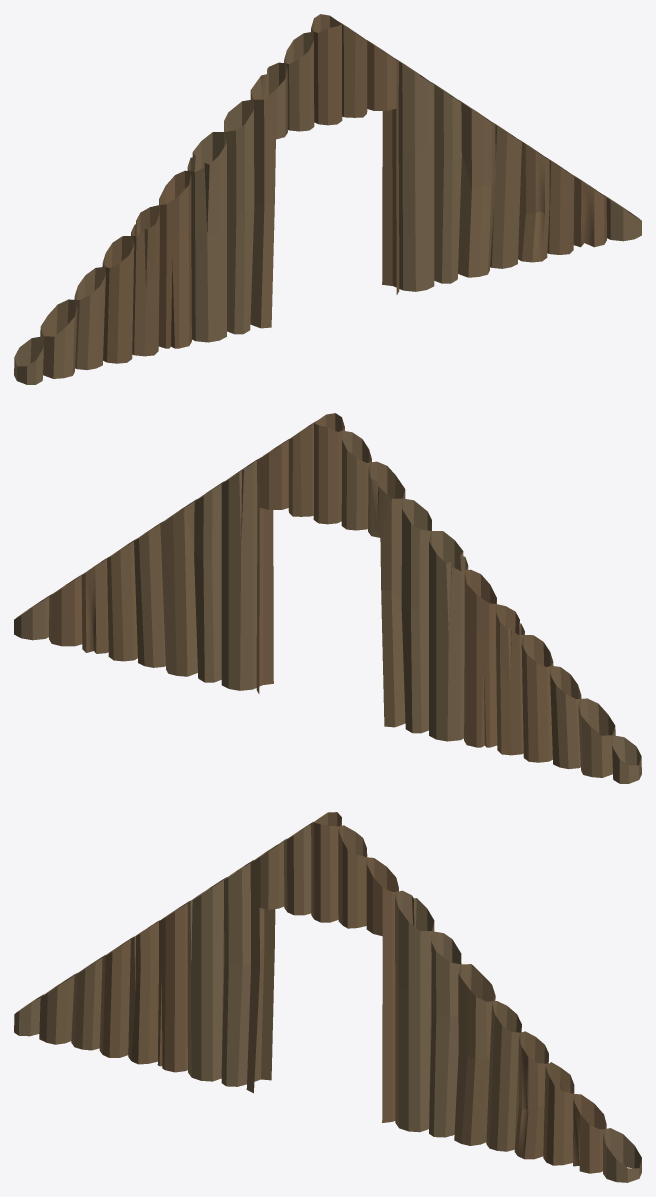
The model's file is rpgpp_ag_roof_end_01_9x4_wall_door_02a.fbx.
3 views of the same model, one above another, from view 1: azimuth 30°, elevation 25°; view 2: azimuth 150°, elevation 25°; view 3: azimuth 330°, elevation 25° (orthographic).
Parts seen in each view (by area): view 1: rpgpp_ag_roof_end_01_9x4_wall_door_02a; view 2: rpgpp_ag_roof_end_01_9x4_wall_door_02a; view 3: rpgpp_ag_roof_end_01_9x4_wall_door_02a.
Part boxes in pixels (box(x1,y1,x2,y2)): rpgpp_ag_roof_end_01_9x4_wall_door_02a: box(14, 14, 641, 384); rpgpp_ag_roof_end_01_9x4_wall_door_02a: box(14, 413, 641, 783); rpgpp_ag_roof_end_01_9x4_wall_door_02a: box(14, 812, 641, 1182).
Bounding box in the file's own units: 9 × 3.93 × 0.4626.
